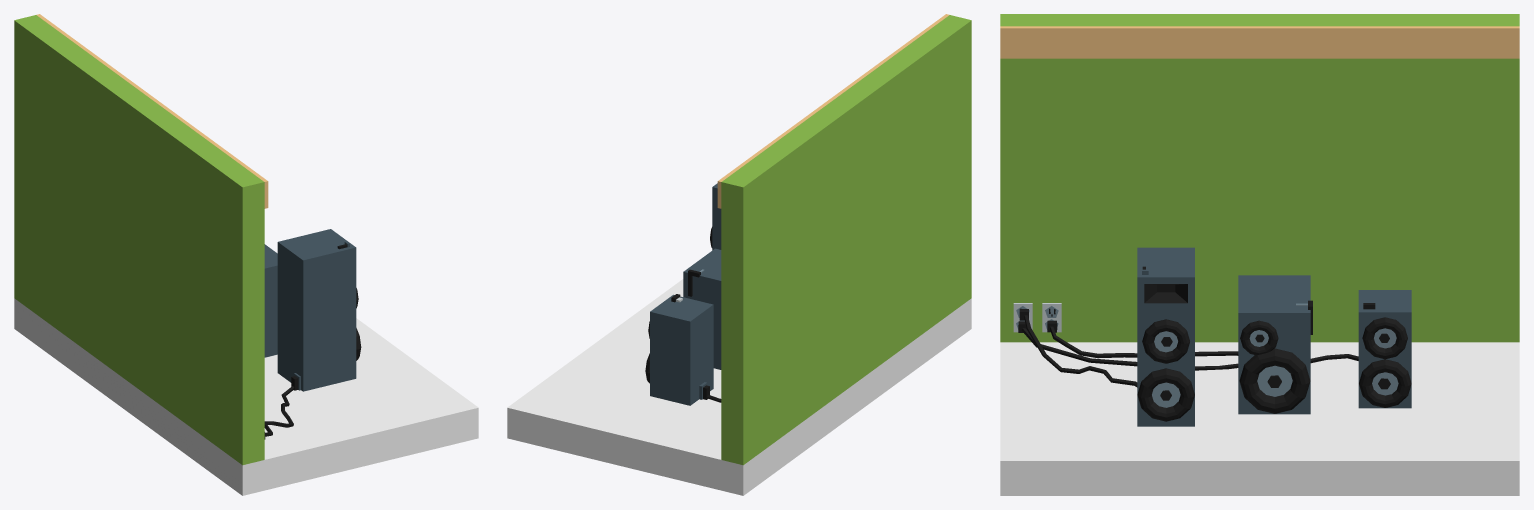
The model's file is Speakers.glb.
3 renders of one model, left to right at view 1: azimuth 30°, elevation 25°; view 2: azimuth 150°, elevation 25°; view 3: azimuth 270°, elevation 25°, orthographic. The views are drawn at different scales.
Visible parts, largest first — view 1: group1795877011, group265941632, group15764063, group133193242, group2117793300; view 2: group1795877011, group265941632, group944044975, group133193242, group2117793300, group15764063; view 3: group1795877011, group265941632, group2117793300, group15764063, group133193242, group944044975, group1835432792, group868736287, group993369960, group1838649666, group676942161, group1320549016 (+2 smaller).
Boxes of the visible parts, <box> form: group1795877011: <box>14,15,264,465</box>; group265941632: <box>14,298,478,495</box>; group15764063: <box>277,229,361,391</box>; group133193242: <box>264,244,277,357</box>; group2117793300: <box>36,14,268,208</box>; group1795877011: <box>721,15,971,465</box>; group265941632: <box>507,279,971,495</box>; group944044975: <box>650,294,713,405</box>; group133193242: <box>683,248,721,369</box>; group2117793300: <box>717,14,949,208</box>; group15764063: <box>710,183,721,250</box>; group1795877011: <box>1000,14,1519,342</box>; group265941632: <box>1000,342,1519,495</box>; group2117793300: <box>1000,26,1519,58</box>; group15764063: <box>1137,247,1194,426</box>; group133193242: <box>1238,275,1310,414</box>; group944044975: <box>1358,290,1411,408</box>; group1835432792: <box>1239,348,1310,413</box>; group868736287: <box>1359,359,1411,407</box>; group993369960: <box>1362,317,1407,359</box>; group1838649666: <box>1050,326,1358,370</box>; group676942161: <box>1021,328,1238,366</box>; group1320549016: <box>1240,320,1278,355</box>.
Size of the model in its own units: 1.29 by 1.61 by 2.16.
